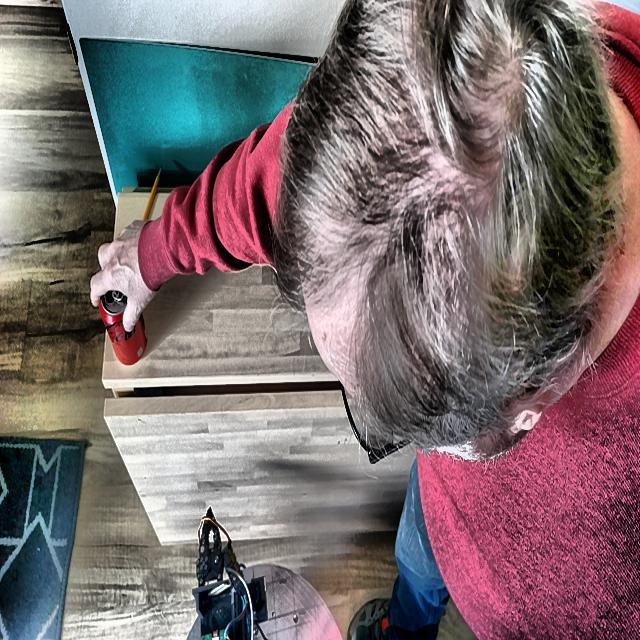Can: (100, 291, 146, 365)
